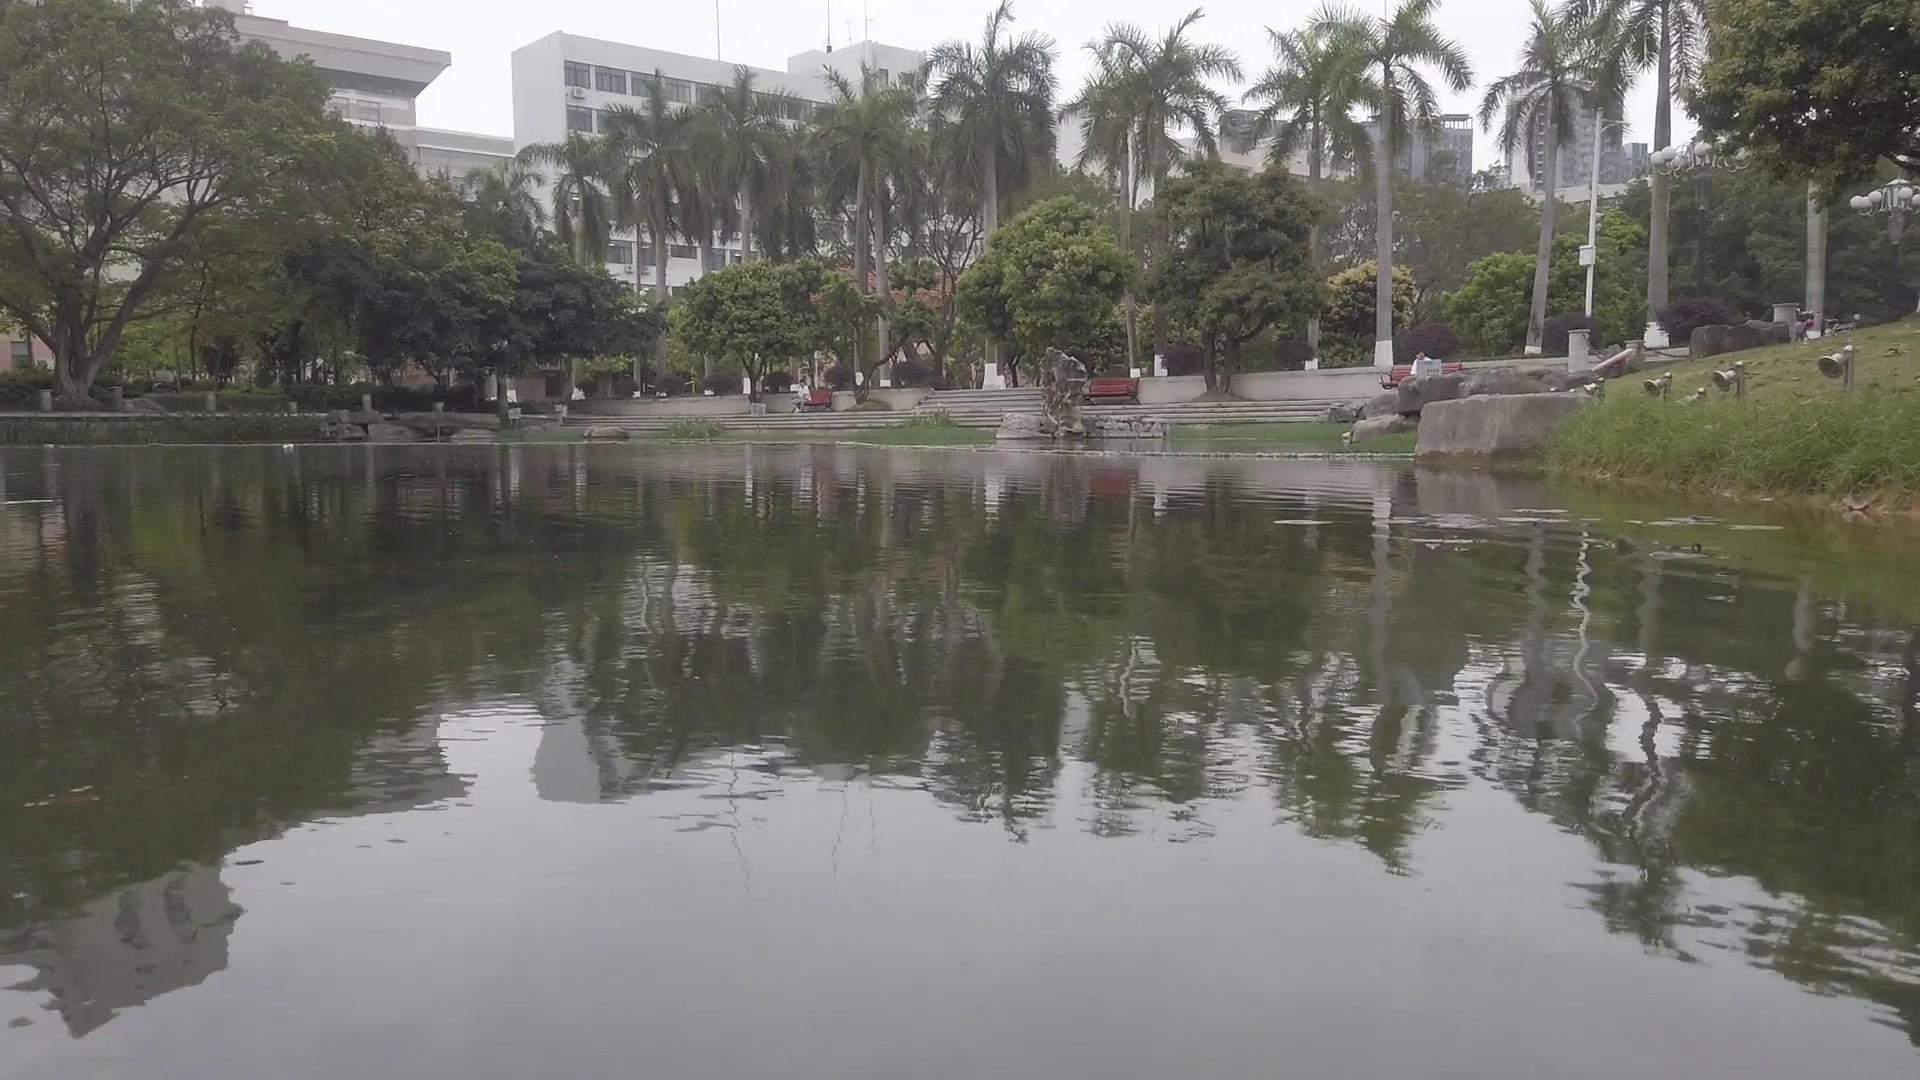bottle: (282, 442, 297, 448)
